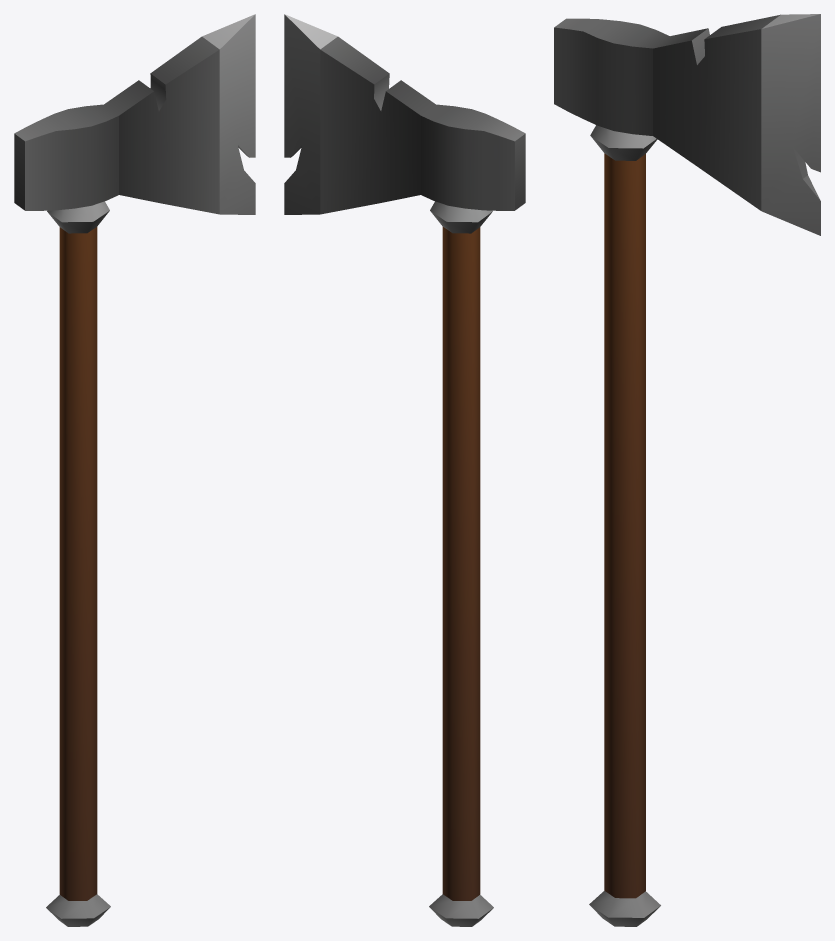
The model's file is Axe2h_01.fbx.
3 renders of one model, left to right at view 1: azimuth 30°, elevation 25°; view 2: azimuth 150°, elevation 25°; view 3: azimuth 330°, elevation 25°, orthographic. The views are drawn at different scales.
Parts seen in each view (by area): view 1: Axe2h_01; view 2: Axe2h_01; view 3: Axe2h_01.
Boxes of the visible parts, left/top/right/bottom form: Axe2h_01: left=14, top=14, right=255, bottom=926; Axe2h_01: left=284, top=14, right=525, bottom=926; Axe2h_01: left=554, top=14, right=820, bottom=926.
Bounding box in the file's own units: 30.68 × 107 × 6.95.
